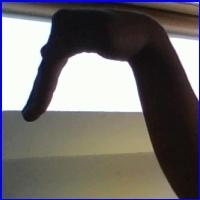A: (15, 7, 174, 136)
